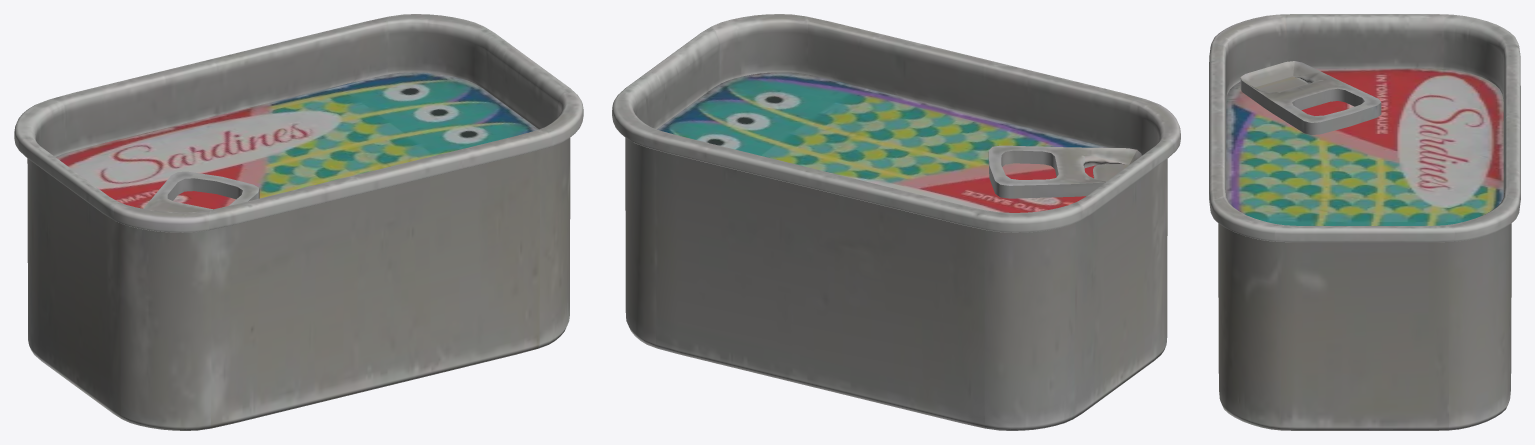
Rendered from sardines.glb.
3 views of the same model, side by side, from view 1: azimuth 30°, elevation 25°; view 2: azimuth 150°, elevation 25°; view 3: azimuth 270°, elevation 25° (orthographic). The views are drawn at different scales.
Parts seen in each view (by area): view 1: long_life_food_sardines.001; view 2: long_life_food_sardines.001; view 3: long_life_food_sardines.001.
Part boxes in pixels (x1,y1,x2,y2): long_life_food_sardines.001: (14, 14, 583, 430); long_life_food_sardines.001: (612, 14, 1180, 430); long_life_food_sardines.001: (1209, 14, 1520, 430).
Size of the model in its own units: 3.04 by 1.35 by 1.84.
Materials: 1 (1 with a texture image).
